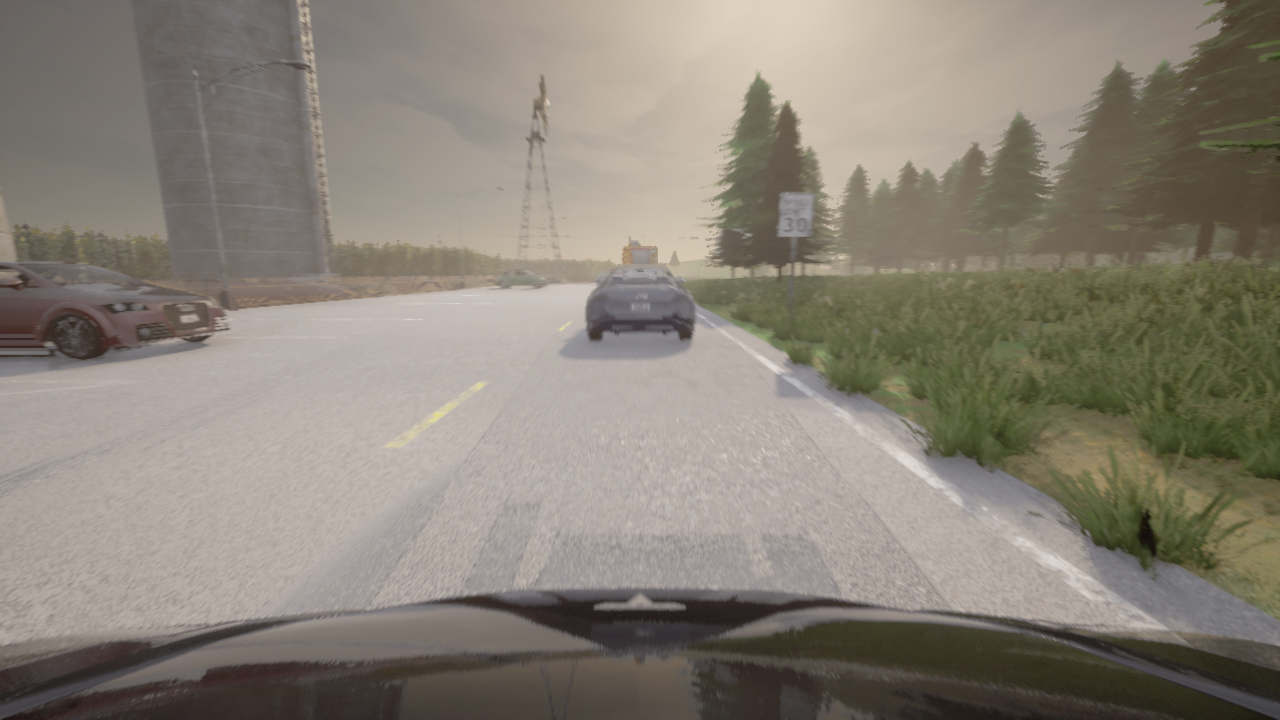cyclist: (0, 588, 1279, 719), (0, 261, 231, 360), (586, 265, 694, 340), (497, 269, 547, 288), (623, 241, 657, 265), (523, 268, 554, 283), (597, 270, 611, 284)
